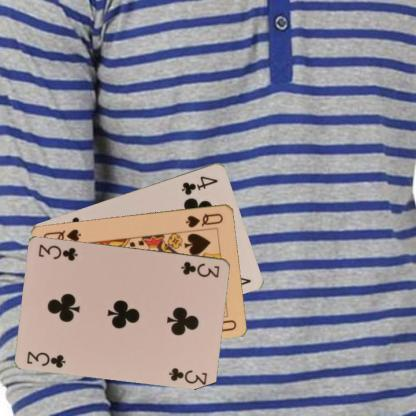3c: (178, 258, 222, 278), (24, 348, 67, 368)
4c: (178, 173, 220, 196)
Qs: (183, 210, 225, 228)
